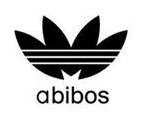adidas Fake: (10, 13, 132, 107)
